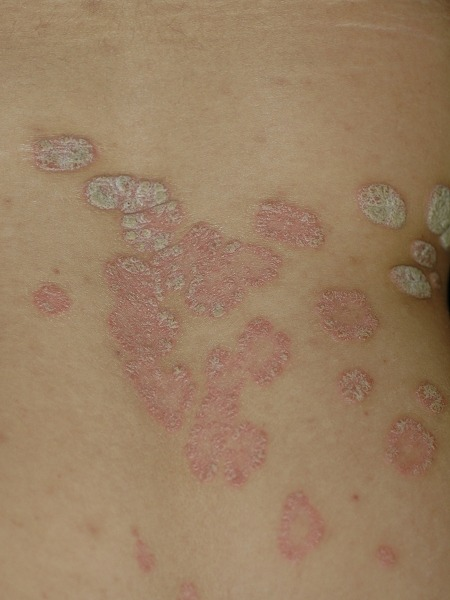Psoriasis: (109, 217, 289, 489), (189, 307, 286, 485), (78, 165, 184, 243), (305, 282, 389, 343), (268, 490, 335, 559), (251, 193, 327, 253), (383, 410, 441, 488), (18, 126, 101, 172), (355, 173, 409, 237), (29, 276, 81, 323), (381, 257, 433, 301), (421, 173, 450, 244), (338, 367, 376, 401), (408, 235, 441, 268), (375, 537, 399, 578)
